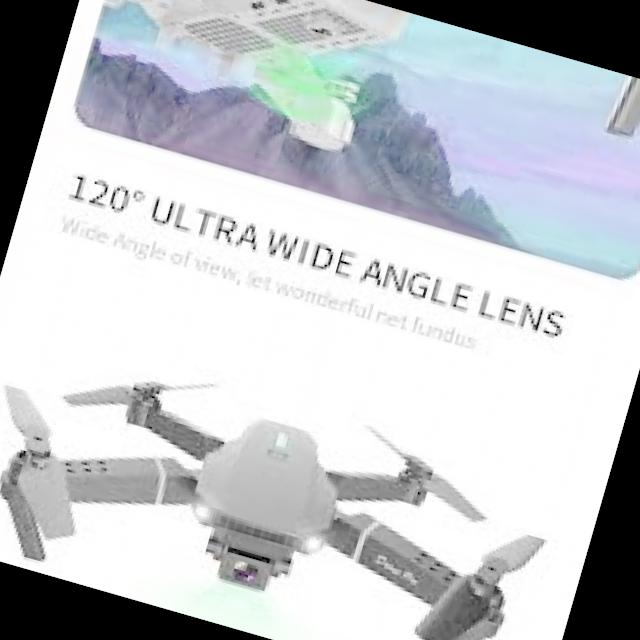drone: (0, 301, 609, 640)
